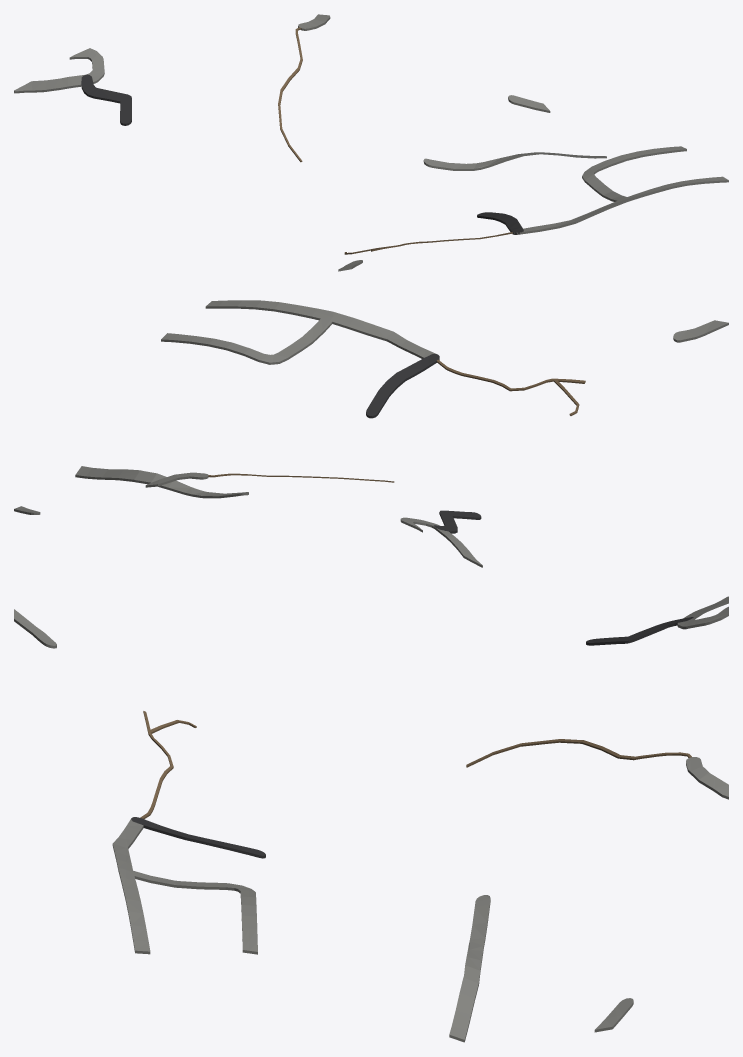
3 renders of one model, top to bottom at view 1: azimuth 30°, elevation 25°; view 2: azimuth 150°, elevation 25°; view 3: azimuth 270°, elevation 25°, orthographic. The views are drawn at different scales.
Bounding box in the file's own units: 293 × 77.81 × 292.
